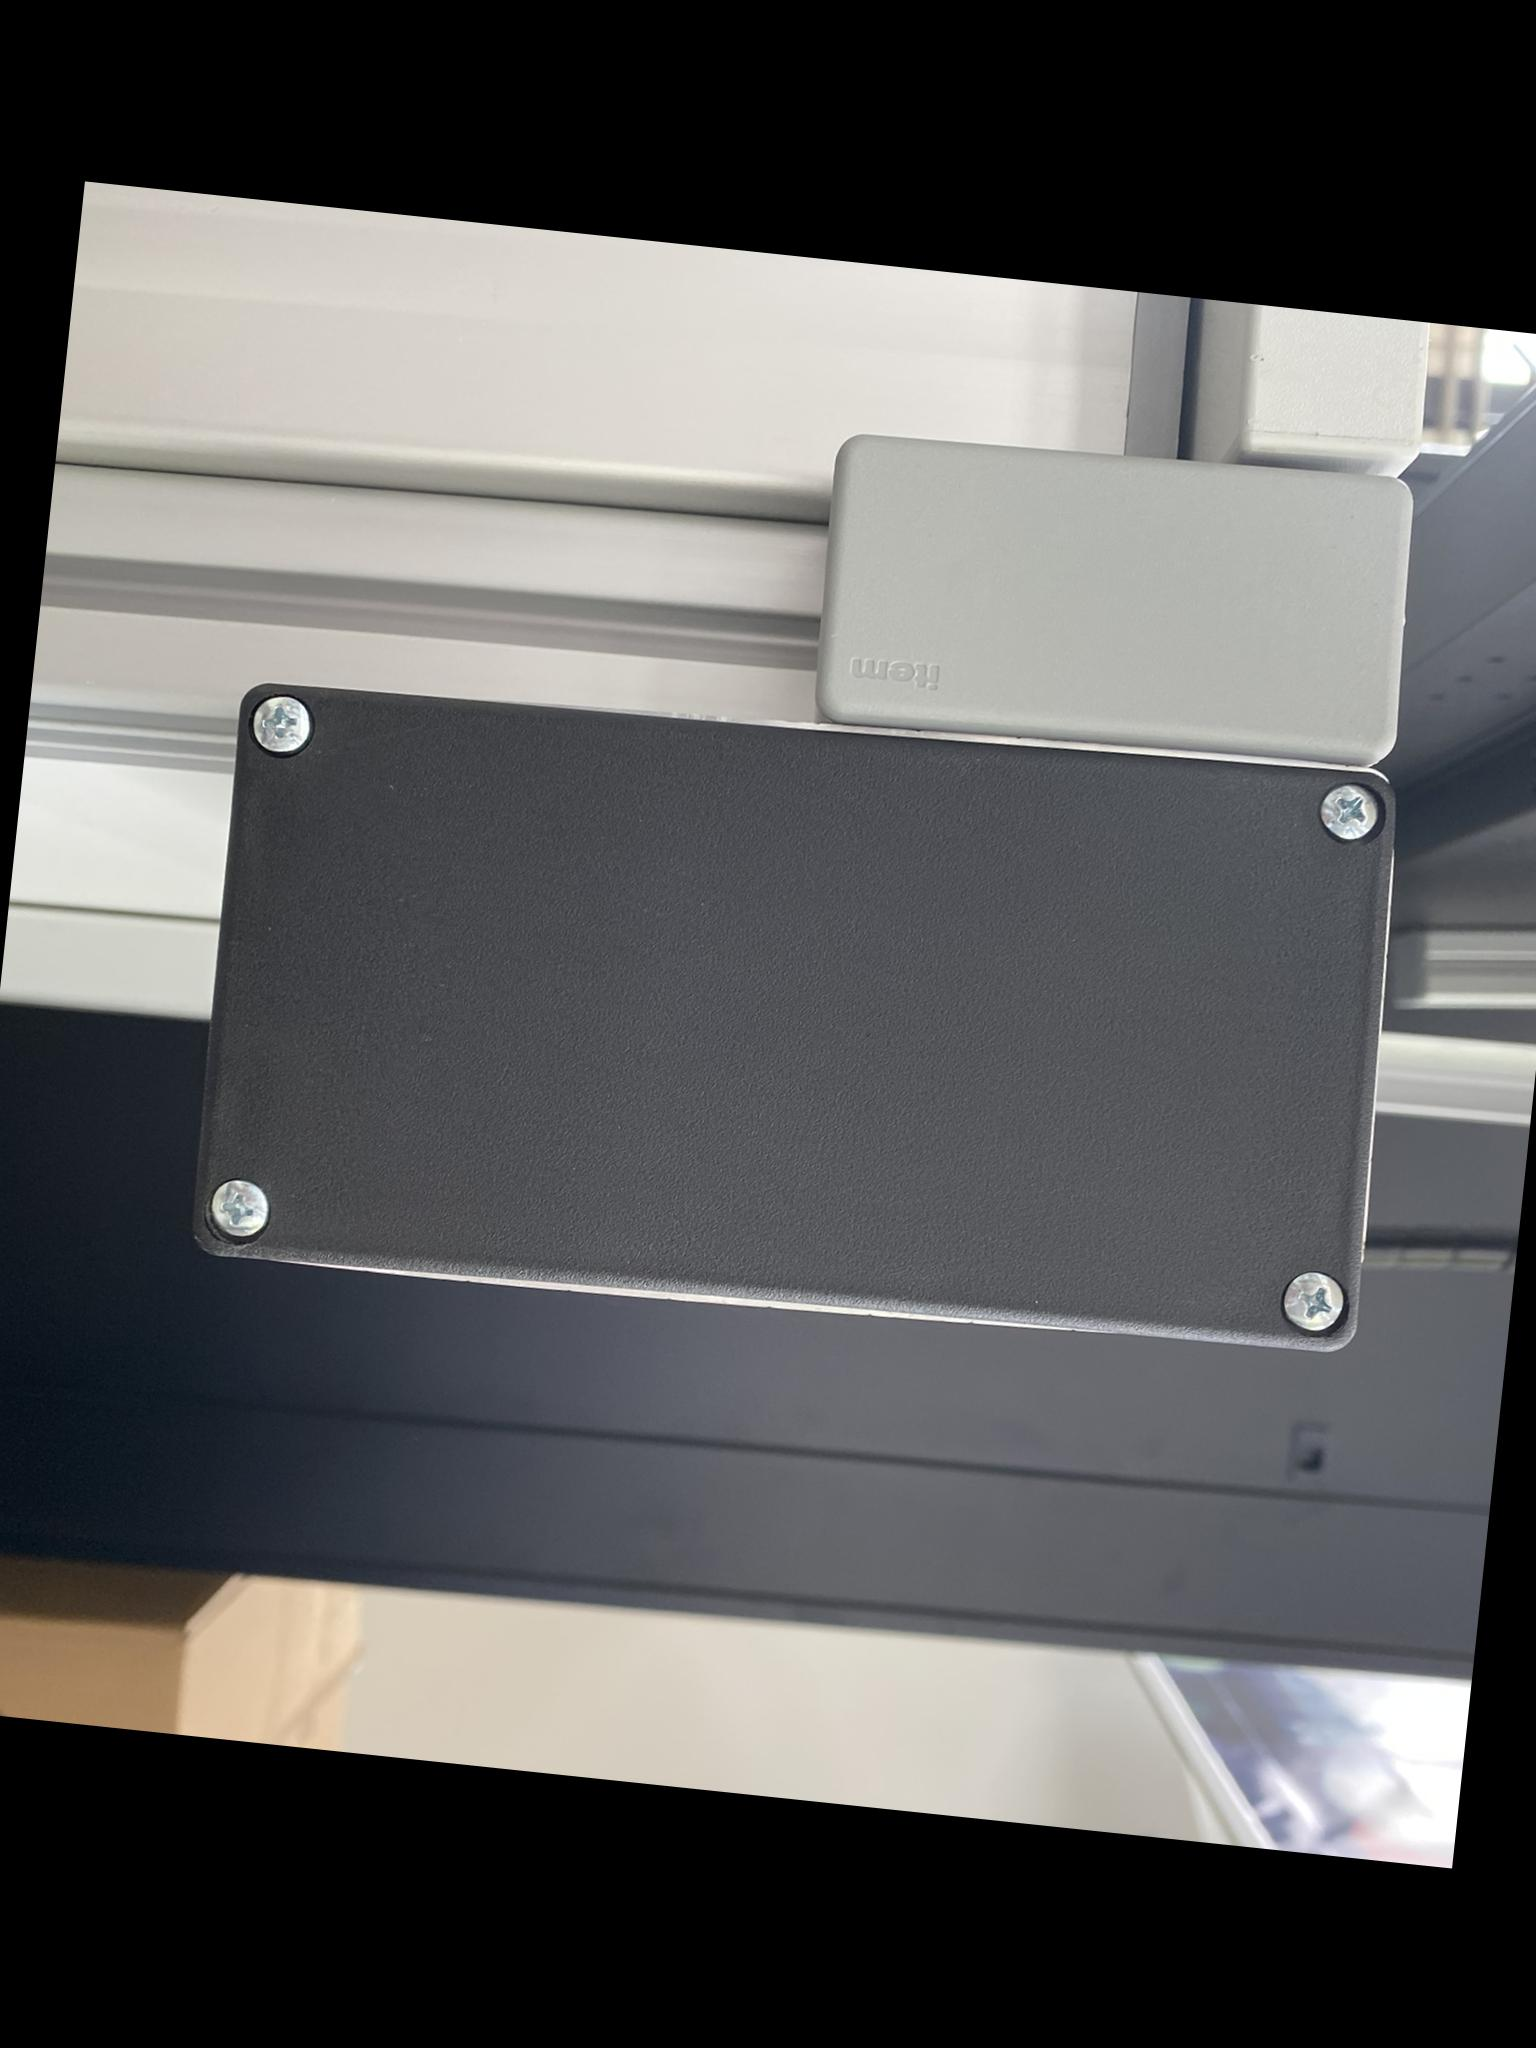PH: (248, 689, 315, 756), (207, 1176, 273, 1243), (1283, 1268, 1346, 1334), (1317, 780, 1381, 842)
